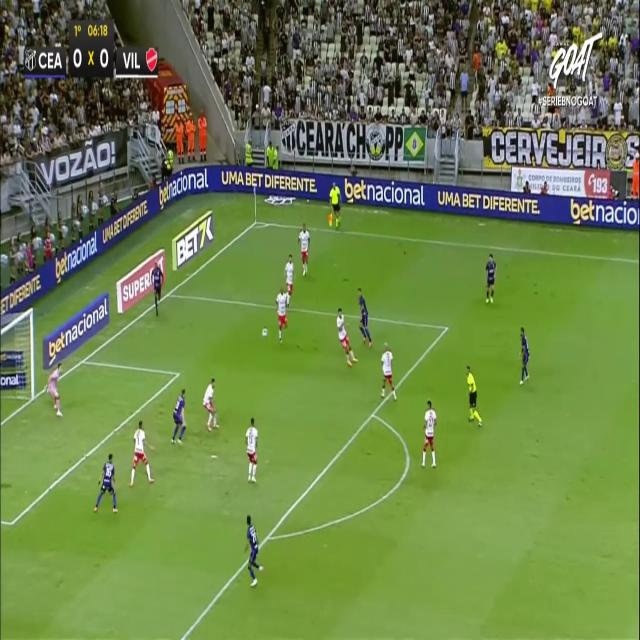ball: (260, 326, 271, 343)
goalkeeper: (45, 361, 63, 417)
player: (128, 420, 154, 486), (93, 452, 118, 513), (245, 514, 263, 587), (336, 307, 358, 366), (421, 399, 437, 468), (380, 341, 396, 401), (357, 286, 372, 348), (244, 417, 258, 483), (202, 377, 219, 431), (170, 388, 186, 445), (275, 288, 289, 342), (151, 260, 164, 316), (519, 325, 530, 385), (298, 222, 310, 276), (484, 253, 496, 303), (284, 254, 294, 308)
referee: (466, 364, 483, 426), (328, 182, 342, 230)
